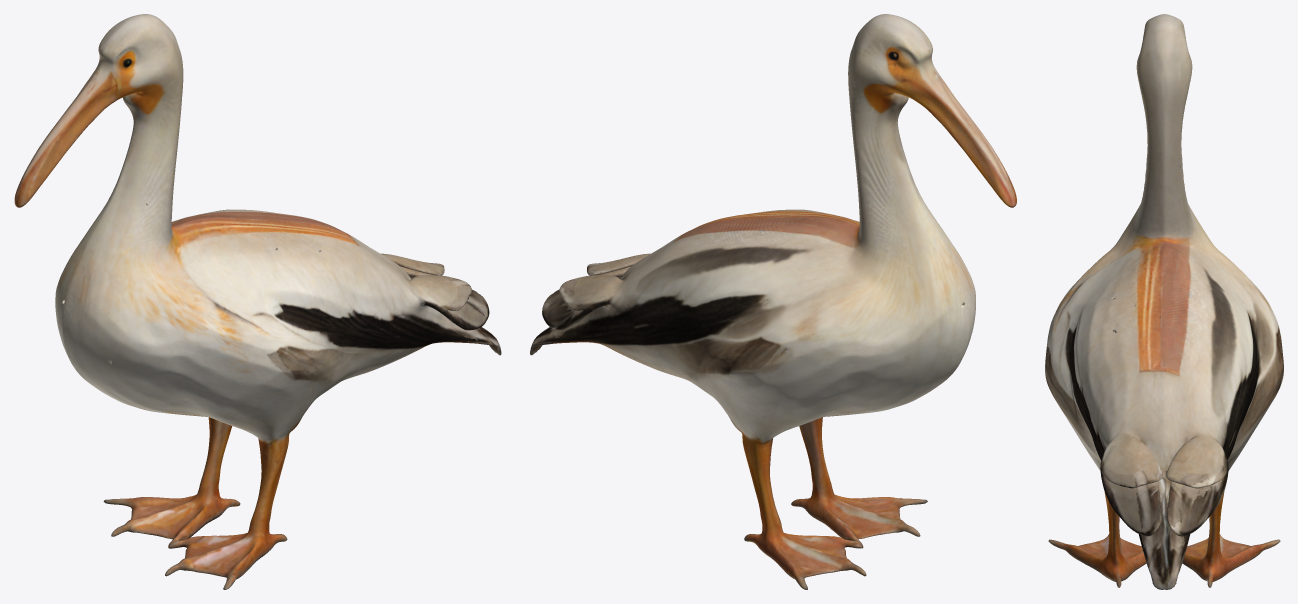
File: pelikan_pelican.glb
3 views of the same model, side by side, from view 1: azimuth 30°, elevation 25°; view 2: azimuth 150°, elevation 25°; view 3: azimuth 270°, elevation 25° (orthographic). The views are drawn at different scales.
Parts seen in each view (by area): view 1: Object_2, Object_3; view 2: Object_2, Object_3; view 3: Object_2, Object_3.
Boxes of the visible parts, bbox=[...] form: Object_2: bbox=[14, 14, 501, 589]; Object_3: bbox=[18, 146, 501, 548]; Object_2: bbox=[530, 14, 1016, 589]; Object_3: bbox=[554, 156, 1013, 515]; Object_2: bbox=[1045, 14, 1283, 589]; Object_3: bbox=[1045, 156, 1167, 587].
Size of the model in its own units: 0.5763 by 0.6162 by 0.2585.
1 material, 1 textured.
